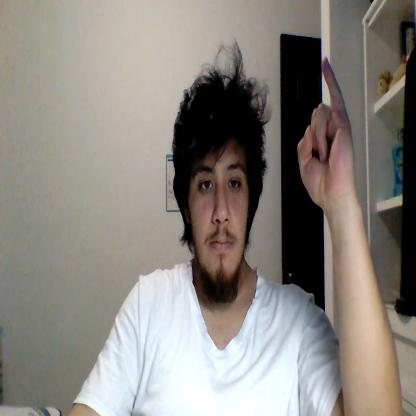I: (298, 57, 354, 210)
